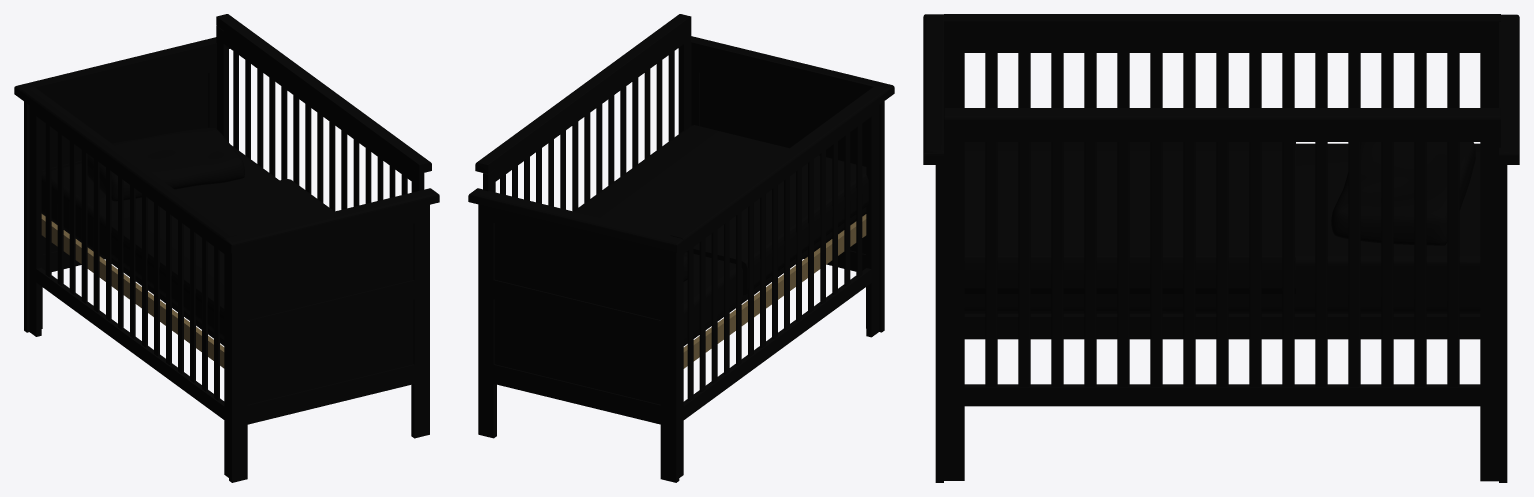
Rendered from finalcrib.fbx.
3 renders of one model, left to right at view 1: azimuth 30°, elevation 25°; view 2: azimuth 150°, elevation 25°; view 3: azimuth 270°, elevation 25°, orthographic. The views are drawn at different scales.
Parts seen in each view (by area): view 1: criblow:model:mesh322899734, criblow:model:mesh797499105, criblow:model:mesh236094853, criblow:model:mesh1988012609, pCube1, criblow:model:mesh50890476, Box:Top, criblow:model:mesh82843849, Box:Front; view 2: criblow:model:mesh1988012609, criblow:model:mesh797499105, pCube1, criblow:model:mesh322899734, criblow:model:mesh236094853, criblow:model:mesh50890476, criblow:model:mesh82843849; view 3: criblow:model:mesh236094853, criblow:model:mesh797499105, pCube1, criblow:model:mesh50890476, criblow:model:mesh1473972908, criblow:model:mesh322899734, criblow:model:mesh1988012609, Box:Top, Box:Right, Box:Back, mesh82843853.
Boxes of the visible parts, x1=… form: criblow:model:mesh322899734: x1=224, y1=188, x2=439, y2=482; criblow:model:mesh797499105: x1=21, y1=86, x2=236, y2=477; criblow:model:mesh236094853: x1=216, y1=14, x2=431, y2=211; criblow:model:mesh1988012609: x1=14, y1=37, x2=229, y2=332; pCube1: x1=111, y1=178, x2=334, y2=339; criblow:model:mesh50890476: x1=41, y1=144, x2=279, y2=345; Box:Top: x1=99, y1=127, x2=240, y2=180; criblow:model:mesh82843849: x1=41, y1=214, x2=224, y2=368; Box:Front: x1=113, y1=160, x2=244, y2=201; criblow:model:mesh1988012609: x1=468, y1=188, x2=684, y2=482; criblow:model:mesh797499105: x1=670, y1=86, x2=886, y2=477; pCube1: x1=573, y1=125, x2=868, y2=295; criblow:model:mesh322899734: x1=691, y1=36, x2=894, y2=332; criblow:model:mesh236094853: x1=475, y1=14, x2=691, y2=211; criblow:model:mesh50890476: x1=683, y1=207, x2=866, y2=345; criblow:model:mesh82843849: x1=683, y1=214, x2=866, y2=368; criblow:model:mesh236094853: x1=944, y1=108, x2=1500, y2=481; criblow:model:mesh797499105: x1=944, y1=14, x2=1500, y2=108; pCube1: x1=964, y1=142, x2=1295, y2=293; criblow:model:mesh50890476: x1=964, y1=143, x2=1480, y2=311; criblow:model:mesh1473972908: x1=964, y1=313, x2=1480, y2=339; criblow:model:mesh322899734: x1=923, y1=14, x2=943, y2=482; criblow:model:mesh1988012609: x1=1499, y1=14, x2=1519, y2=482; Box:Top: x1=1338, y1=142, x2=1469, y2=216; Box:Right: x1=1334, y1=211, x2=1445, y2=245; Box:Back: x1=1442, y1=142, x2=1475, y2=244; mesh82843853: x1=964, y1=312, x2=1480, y2=313.
Size of the model in its own units: 4.59 by 5.67 by 8.28.
